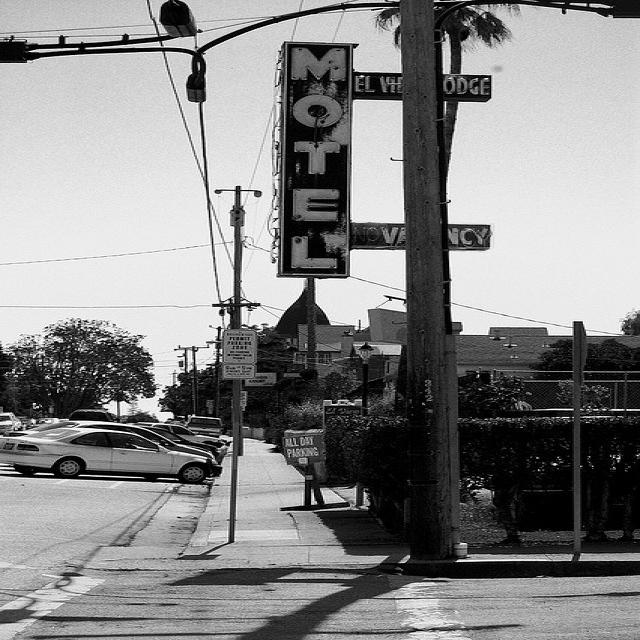car: (0, 428, 210, 482), (1, 419, 215, 460), (137, 418, 231, 447), (136, 424, 217, 455), (183, 414, 221, 435), (68, 408, 116, 420), (0, 409, 21, 433), (27, 416, 57, 428)
pole: (380, 0, 473, 552), (563, 376, 595, 557)
